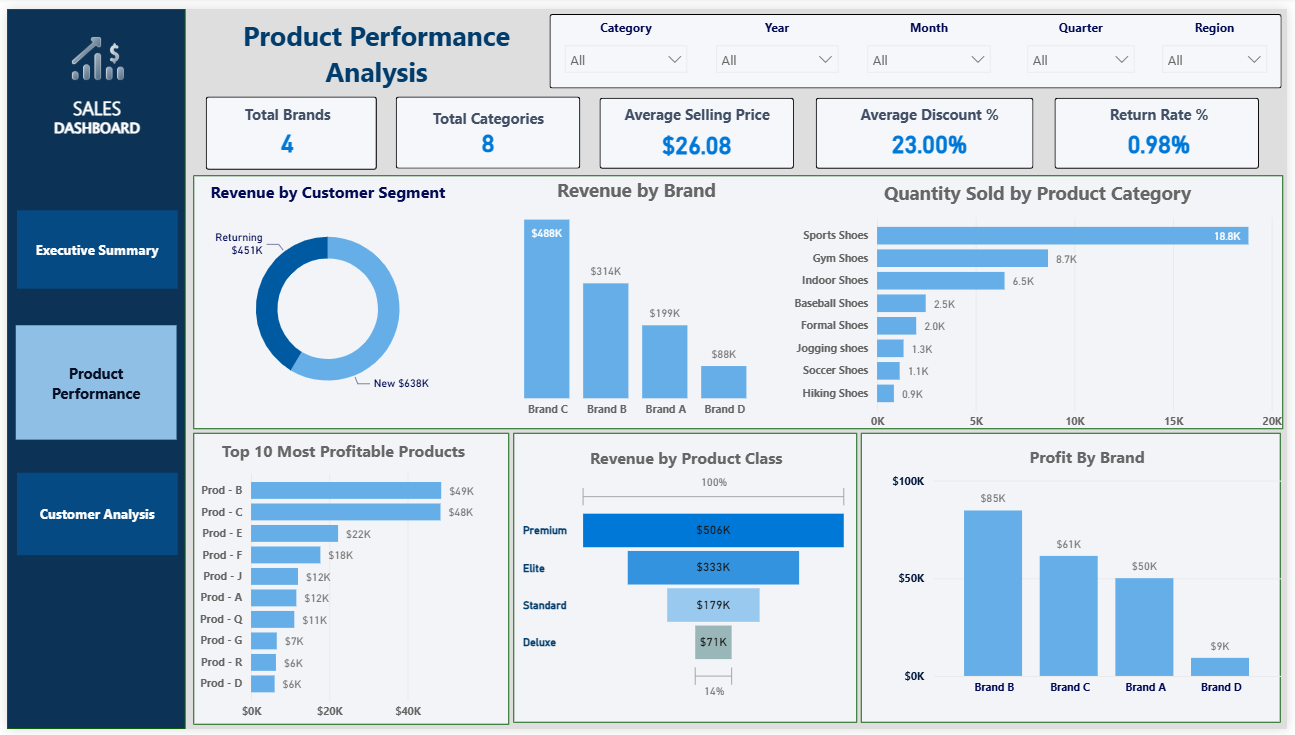

The page's visual inventory and layout, read from the dashboard file:
{"tool":"powerbi","page":{"name":"Product Performance Analysis","canvas":[1280,720],"ordinal":1},"visuals":[{"type":"shape","title":"Large Shape","box":[186,424,316,292],"z":0},{"type":"shape","title":"Shape","box":[198.9,87.8,171.1,73.3],"z":1000},{"type":"shape","title":"Large Shape","box":[506,424,344,290],"z":2000},{"type":"shape","title":"Large Shape","box":[854.3,424.3,420,290],"z":3000},{"type":"shape","title":"Large Shape","box":[186,166,1090,254],"z":4000},{"type":"shape","box":[542.2,5.6,732.2,74.4],"z":5000},{"type":"shape","box":[0,0,178.6,720],"z":6000},{"type":"donutChart","title":"Revenue by Customer Segment","fields":{"Category":["Sales Data.Customer Type"],"Y":["All Measures.Total_Sales"]},"box":[188.6,171.4,264.3,235.7],"z":7000},{"type":"funnel","title":"Revenue by Product Class","fields":{"Category":["Products Details.Product Class"],"Y":["All Measures.Total_Sales"]},"box":[511.4,437.1,335.7,258.6],"z":8000},{"type":"barChart","title":"Quantity Sold by Product Category","fields":{"Category":["Products Details.Products Category"],"Y":["All Measures.Total_Quantity"]},"box":[781.4,171.4,498.6,258.6],"z":9000},{"type":"clusteredBarChart","title":"Top 10 Most Profitable Products","fields":{"Category":["Products Details.Product Name"],"Y":["All Measures.Total_Profit"]},"box":[185.7,430.6,300.3,289.4],"z":10000},{"type":"shape","title":"Shape","box":[1047.8,88.9,204.4,71.1],"z":11000},{"type":"textbox","box":[204.3,4.3,331.4,84.3],"z":12000},{"type":"slicer","title":"Year","fields":{"Values":["Date table.Year"]},"box":[698.8,10,142.5,72.5],"z":13000},{"type":"image","box":[42.9,18.6,94.3,64.3],"z":14000},{"type":"textbox","box":[10,104.3,160,47.1],"z":15000},{"type":"textbox","box":[10,81.4,160,47.1],"z":16000},{"type":"shape","title":"Shape","box":[808.9,88.9,217.8,71.1],"z":17000},{"type":"shape","title":"Shape","box":[592.2,88.9,194.4,71.1],"z":18000},{"type":"shape","title":"Shape","box":[388.9,87.8,184.4,72.2],"z":19000},{"type":"slicer","title":"Category","fields":{"Values":["Products Details.Products Category"]},"box":[547.1,10,142.9,70],"z":20000},{"type":"slicer","title":"Month","fields":{"Values":["Date table.Month"]},"box":[850,10,143.8,72.5],"z":21000},{"type":"slicer","title":"Quarter","fields":{"Values":["Date table.Quarter"]},"box":[1010,10,127.5,71.2],"z":22000},{"type":"slicer","title":"Region","fields":{"Values":["Location Details.Geographic Region"]},"box":[1145,10,125,70],"z":23000},{"type":"card","title":"Total Brands","fields":{"Values":["All Measures.Total Brands"]},"box":[195.6,95.6,171.1,57.8],"z":24000},{"type":"card","title":"Total Categories","fields":{"Values":["All Measures.Total Categories"]},"box":[411.1,98.9,140,50],"z":25000},{"type":"card","title":" Average Selling Price","fields":{"Values":["All Measures.Average Selling Price"]},"box":[600,94.4,180,61.1],"z":26000},{"type":"card","title":"Average Discount %","fields":{"Values":["All Measures.Average_Discount"]},"box":[832.2,95.6,180,58.9],"z":27000},{"type":"card","title":" Return Rate %","fields":{"Values":["All Measures.Return Rate"]},"box":[1062.2,95.6,178.9,58.9],"z":28000},{"type":"columnChart","title":" Profit By Brand","fields":{"Category":["Products Details.Brand Name"],"Y":["All Measures.Total_Profit"]},"box":[880,436.7,400,258.9],"z":29000},{"type":"actionButton","title":"Executive Summary","box":[9.6,201.4,160.4,78.4],"z":30000},{"type":"actionButton","title":"Executive Summary","box":[8.4,316,160.4,114.6],"z":31000},{"type":"columnChart","title":"Revenue by Brand","fields":{"Category":["Products Details.Brand Name"],"Y":["All Measures.Total_Sales"]},"box":[488.6,167.1,281.4,250],"z":32000},{"type":"actionButton","title":"Executive Summary","box":[9.6,464.3,160.4,82],"z":33000}]}

Visuals, with their boxes on the page's 1280x720 design canvas (x1, y1, x2, y2). These are canvas units, not pixel positions in the 1295x735 screenshot, which may show the page scaled, cropped or inside an application window:
"Large Shape" shape: 186,424,502,716
"Shape" shape: 199,88,370,161
"Large Shape" shape: 506,424,850,714
"Large Shape" shape: 854,424,1274,714
"Large Shape" shape: 186,166,1276,420
shape: 542,6,1274,80
shape: 0,0,179,720
"Revenue by Customer Segment" donutChart: 189,171,453,407
"Revenue by Product Class" funnel: 511,437,847,696
"Quantity Sold by Product Category" barChart: 781,171,1280,430
"Top 10 Most Profitable Products" clusteredBarChart: 186,431,486,720
"Shape" shape: 1048,89,1252,160
textbox: 204,4,536,89
"Year" slicer: 699,10,841,82
image: 43,19,137,83
textbox: 10,104,170,151
textbox: 10,81,170,128
"Shape" shape: 809,89,1027,160
"Shape" shape: 592,89,787,160
"Shape" shape: 389,88,573,160
"Category" slicer: 547,10,690,80
"Month" slicer: 850,10,994,82
"Quarter" slicer: 1010,10,1138,81
"Region" slicer: 1145,10,1270,80
"Total Brands" card: 196,96,367,153
"Total Categories" card: 411,99,551,149
" Average Selling Price" card: 600,94,780,156
"Average Discount %" card: 832,96,1012,154
" Return Rate %" card: 1062,96,1241,154
" Profit By Brand" columnChart: 880,437,1280,696
"Executive Summary" actionButton: 10,201,170,280
"Executive Summary" actionButton: 8,316,169,431
"Revenue by Brand" columnChart: 489,167,770,417
"Executive Summary" actionButton: 10,464,170,546
